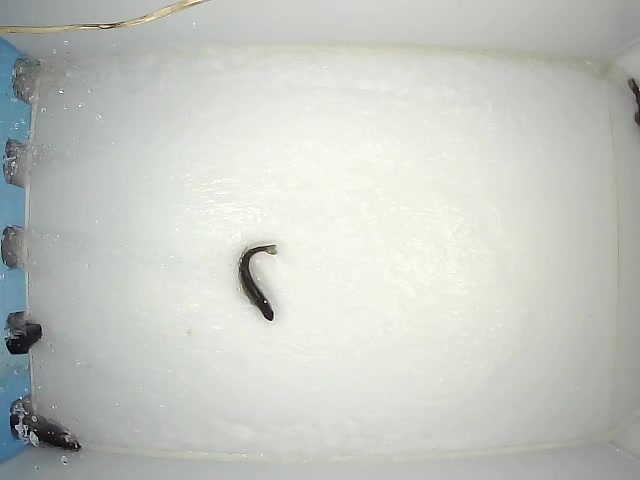fish: (10, 406, 84, 453), (237, 243, 279, 322)
